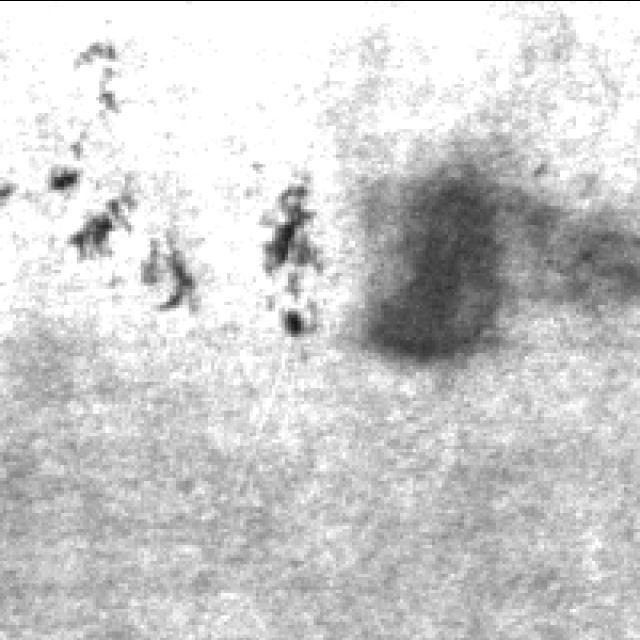patches: (32, 140, 222, 344), (363, 168, 495, 356), (498, 176, 640, 336), (241, 147, 338, 346)
